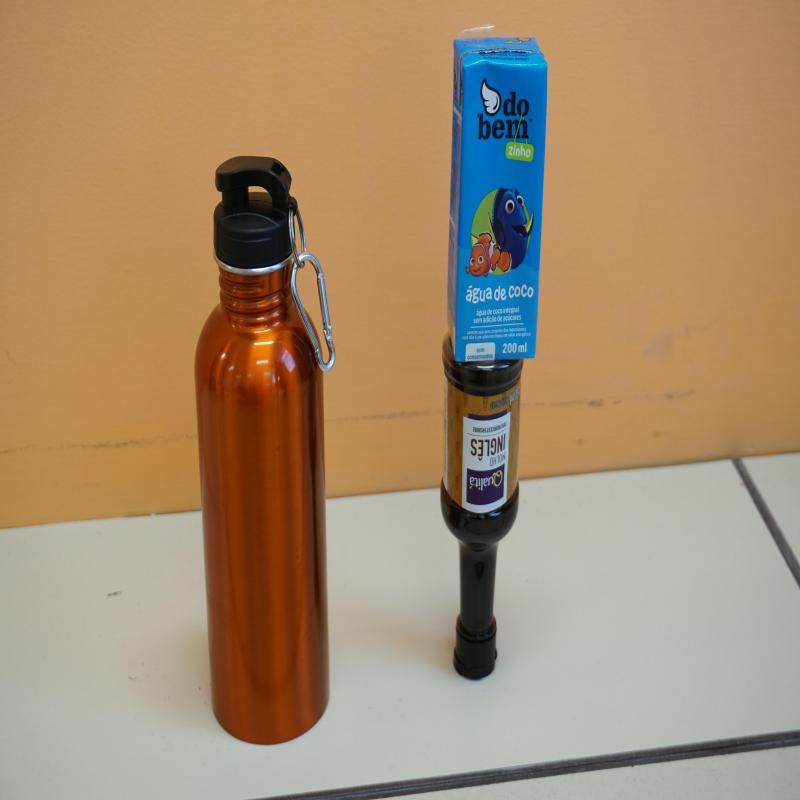CoconutWater: (448, 38, 548, 366)
EnglishSauce: (441, 339, 522, 682)
